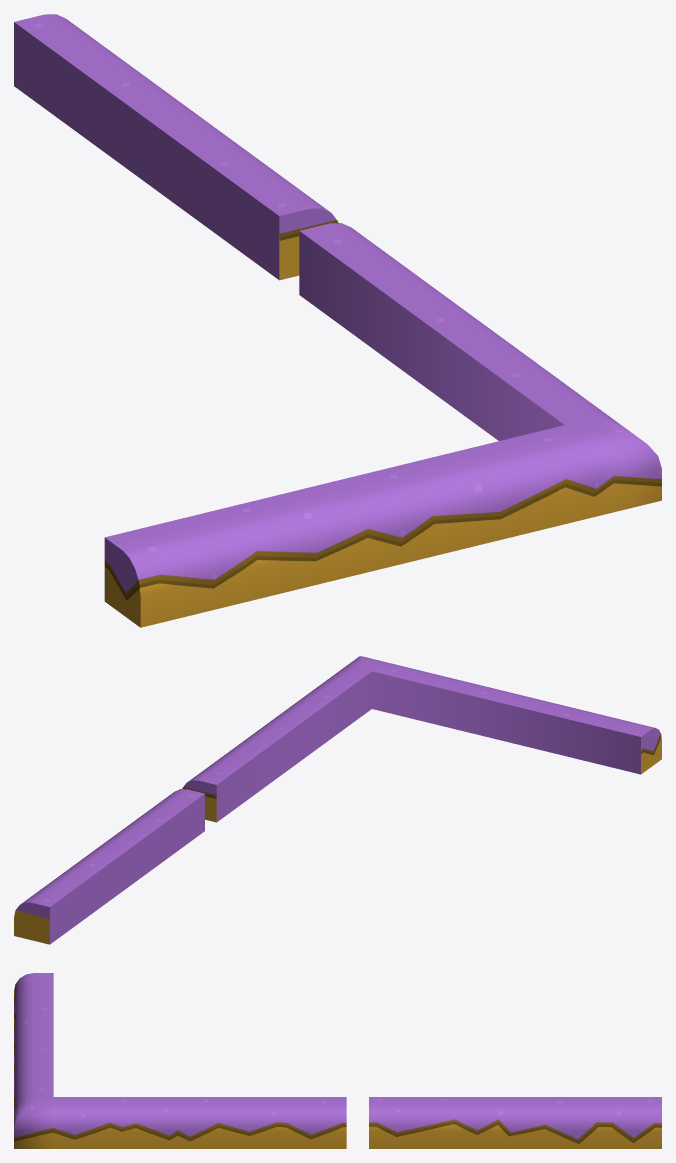
File: near.fbx
The picture shows the model from 3 angles, top to bottom: view 1: azimuth 30°, elevation 25°; view 2: azimuth 150°, elevation 25°; view 3: azimuth 270°, elevation 25°; orthographic projection. The views are drawn at different scales.
Visible parts, largest first — view 1: near_corner, near; view 2: near_corner, near; view 3: near_corner, near.
Part boxes in pixels (bbox=[...]): near_corner: bbox=[104, 223, 661, 627]; near: bbox=[14, 14, 338, 280]; near_corner: bbox=[182, 656, 661, 822]; near: bbox=[14, 789, 204, 944]; near_corner: bbox=[14, 973, 346, 1148]; near: bbox=[369, 1097, 661, 1148].
Bounding box in the file's own units: 425 × 50 × 828.
Materials: 1 (1 with a texture image).
